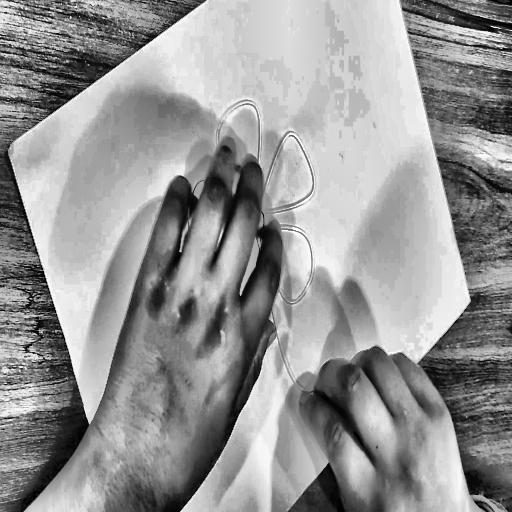bottom_right: (466, 293, 476, 309)
flower: (136, 50, 397, 488)
top_left: (4, 141, 14, 157)
